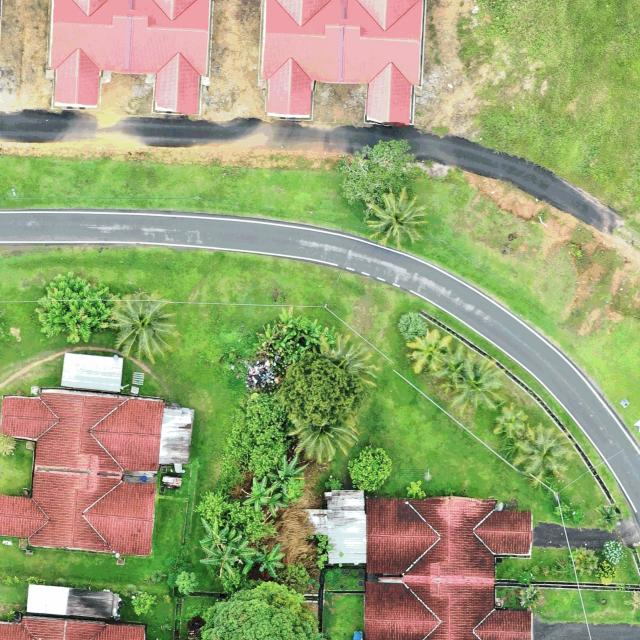Tree: (197, 578, 322, 640), (35, 271, 111, 344), (339, 138, 420, 205), (109, 291, 180, 365), (284, 351, 353, 427), (363, 188, 430, 250), (447, 357, 507, 413), (319, 334, 380, 388), (287, 419, 359, 464), (515, 427, 572, 476), (346, 442, 393, 493), (266, 452, 310, 504), (242, 476, 289, 517), (406, 333, 449, 372), (200, 545, 238, 578), (251, 542, 286, 576), (226, 528, 256, 564), (396, 310, 428, 343), (568, 546, 600, 577), (200, 516, 230, 546), (130, 590, 159, 618), (594, 504, 622, 533), (174, 568, 201, 596), (601, 540, 624, 565), (594, 560, 617, 582)
